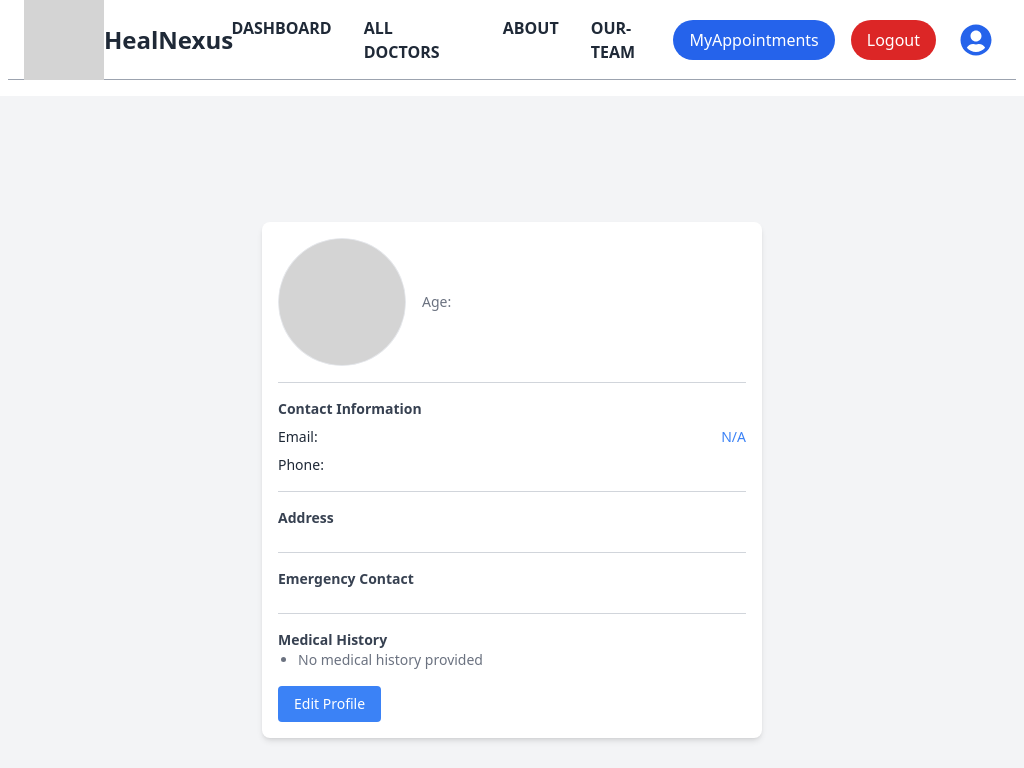
Test case: MyProfile Component › cancels editing and reverts to display mode
The width and height of the screenshot is (1024, 768).
Wait for the user data to be rendered
Click the button "Edit Profile".
click(330, 704)  # box [278,686,381,722]
(page scrolled)
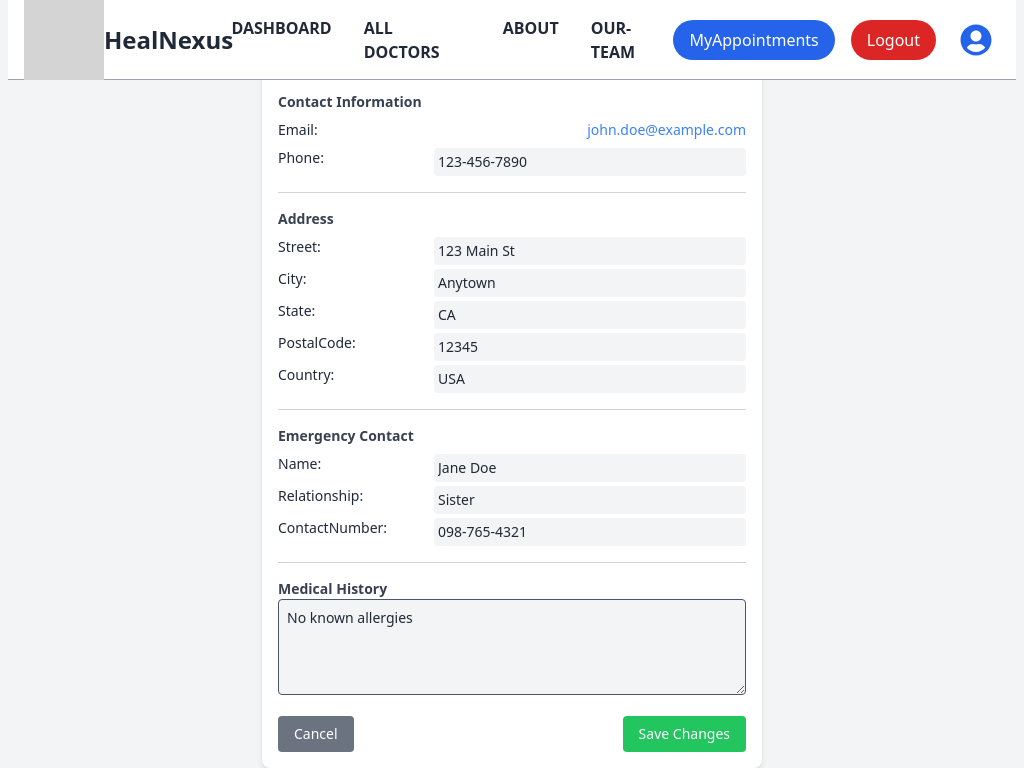
Simulate clicking the cancel button
Click the button "Cancel".
click(316, 734)  # box [278,716,354,752]
(page scrolled)
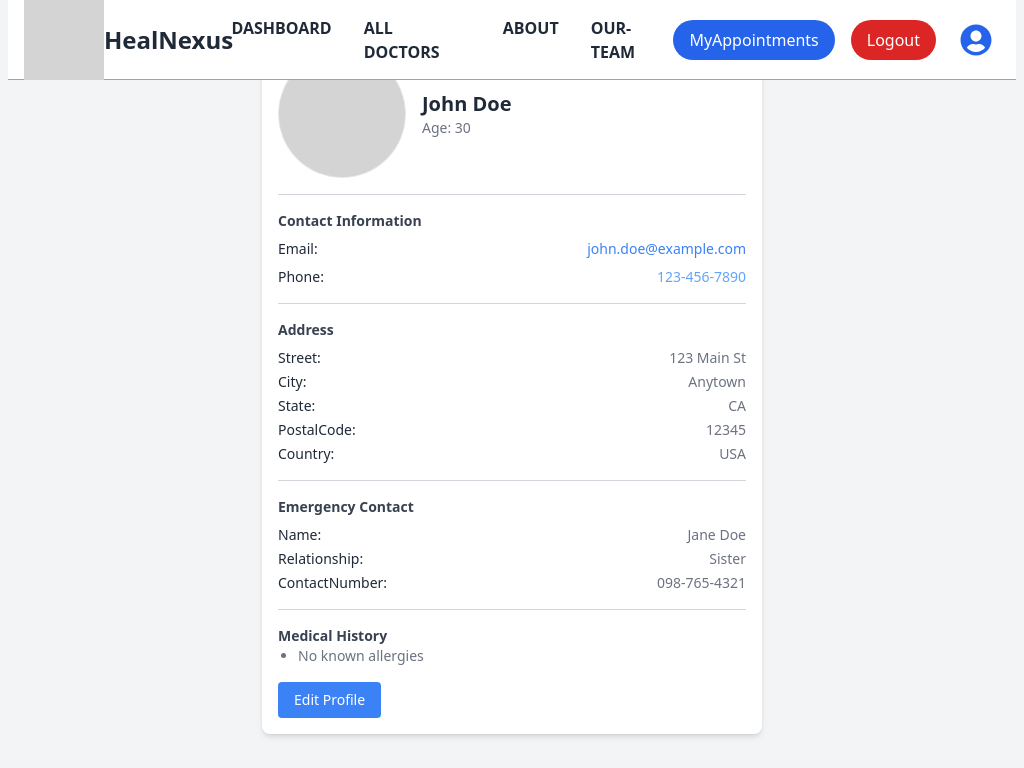
Expected: the heading "John Doe" is shown, [422,90,512,117]
